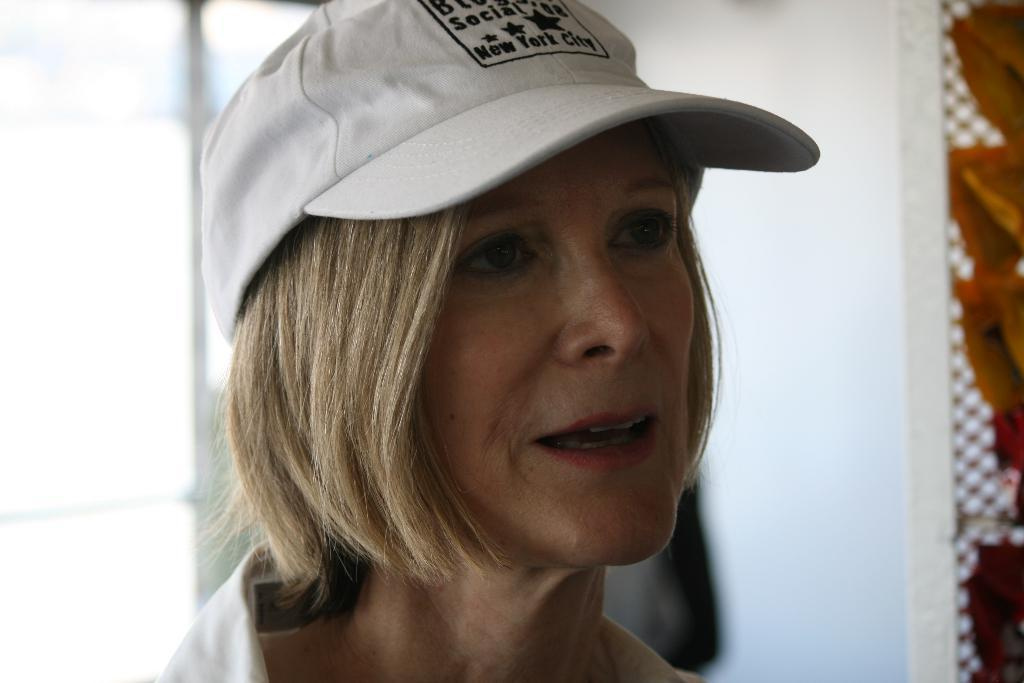Hat: (194, 0, 822, 345)
